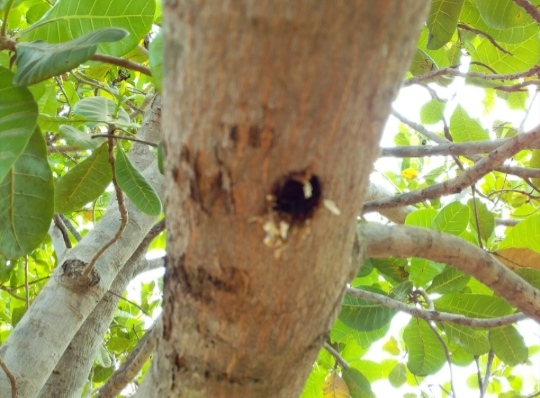Apate terebrans: (262, 167, 332, 235)
